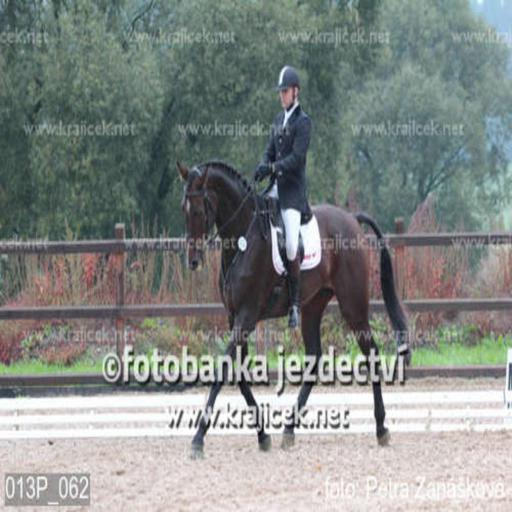horse: (177, 160, 411, 463)
